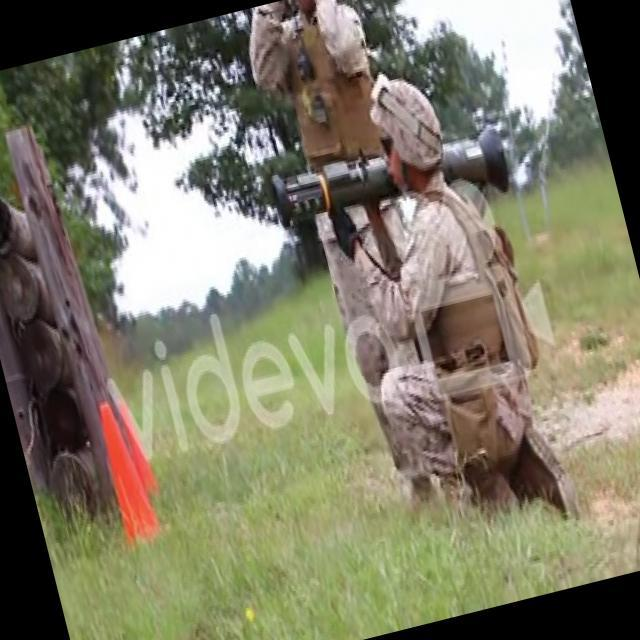rocket: (269, 120, 516, 245)
